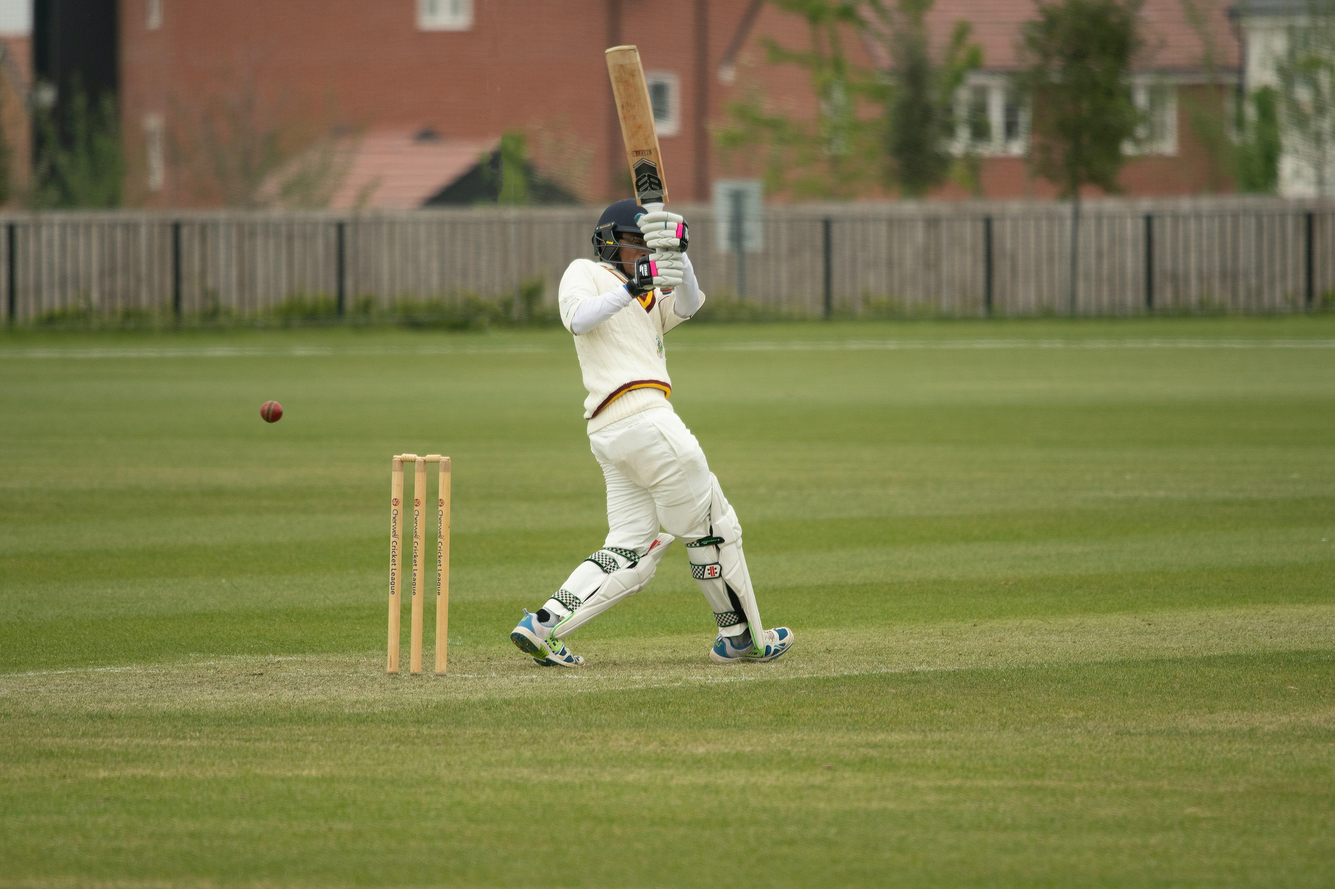batsman: (520, 186, 786, 700)
